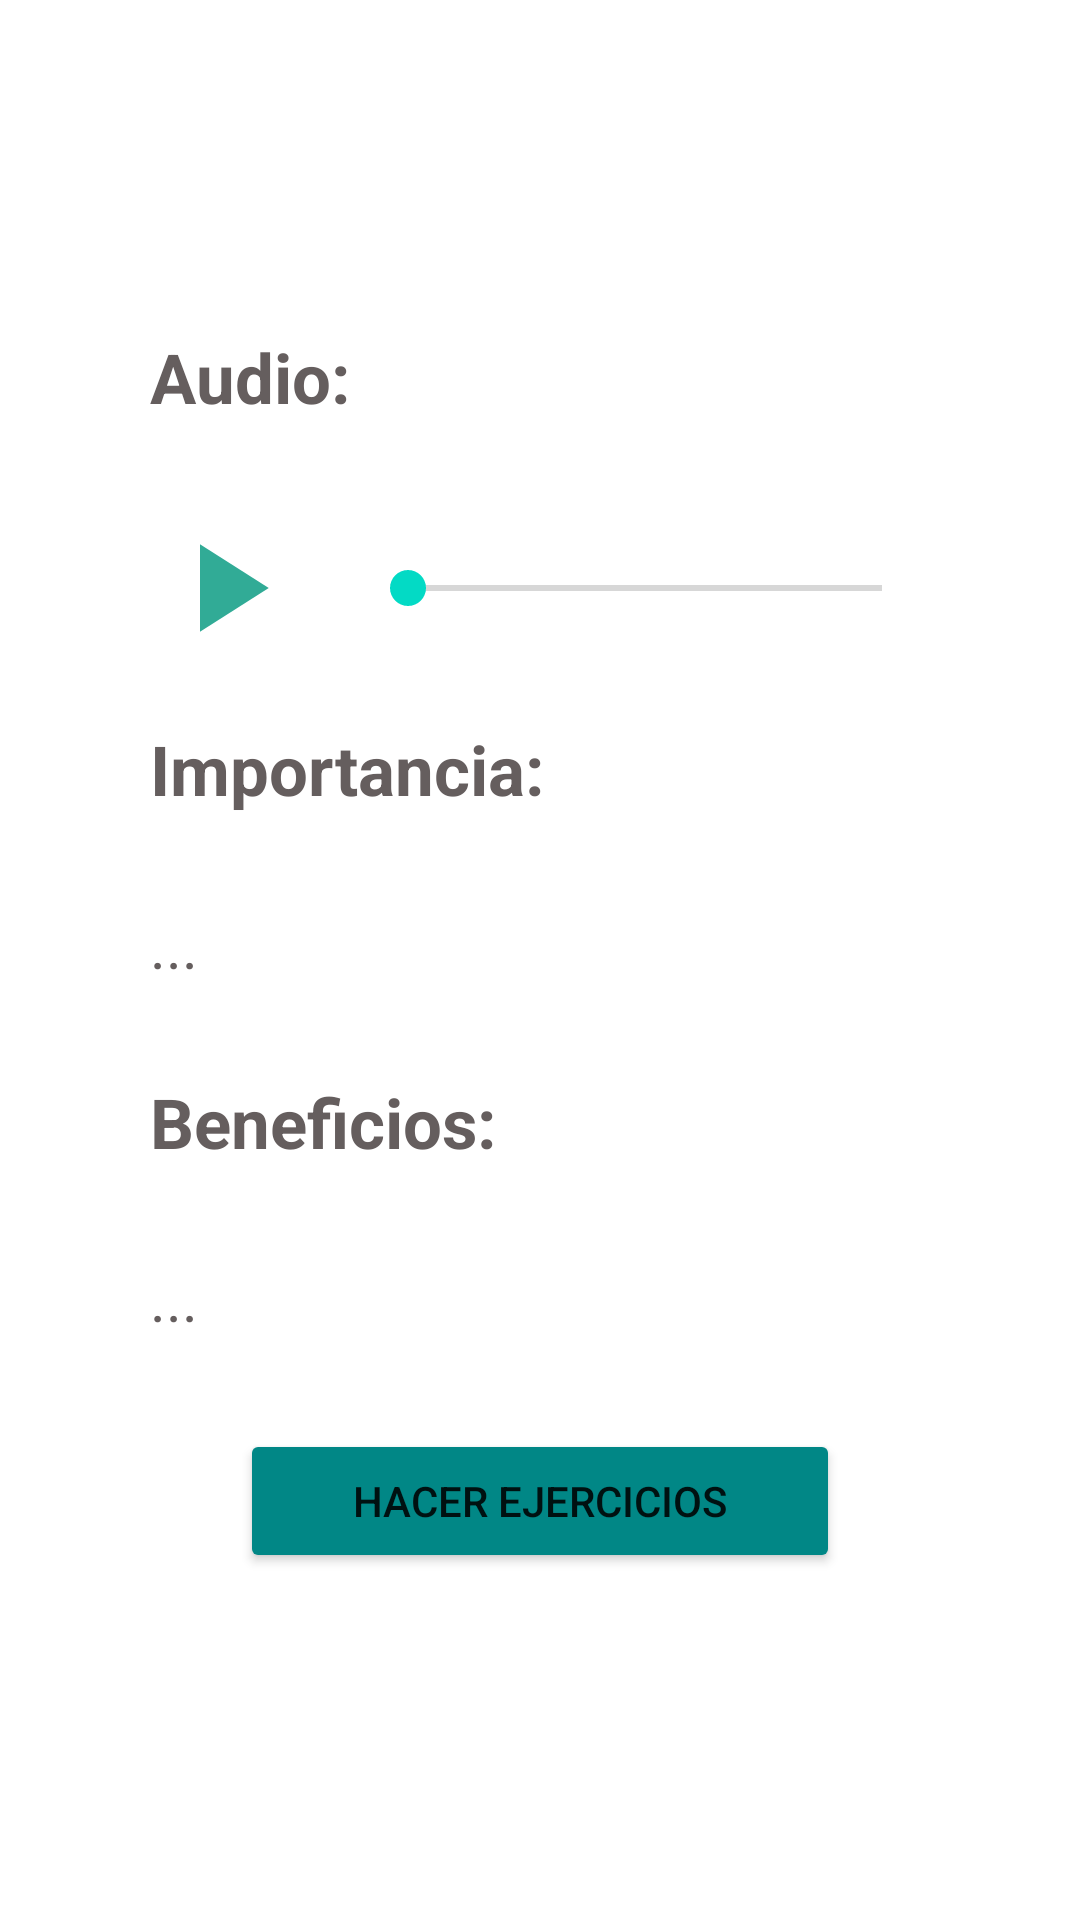

Where to tap for icons on this 1080*1920 app screen, as point (x, y):
play arrow: point (234, 588)
